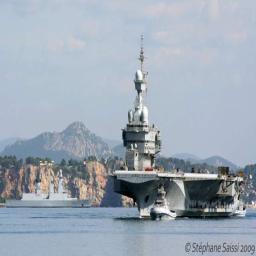Portanaves: (113, 31, 247, 221)
